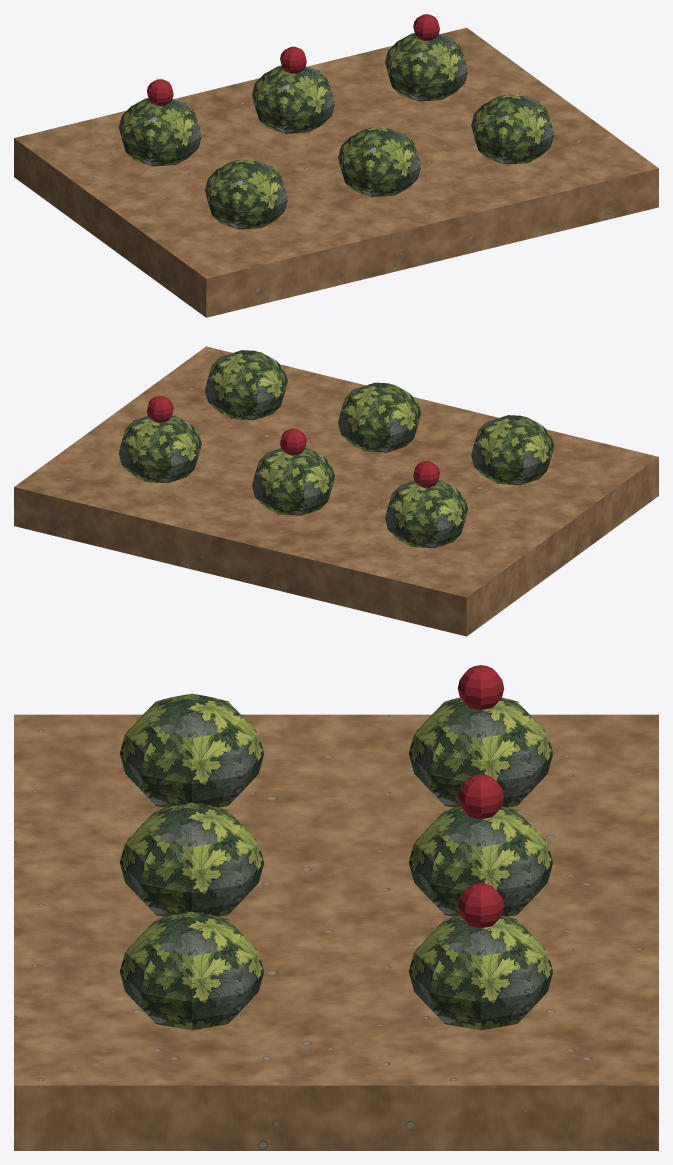
File: prop_yard_herbs.glb
3 renders of one model, top to bottom at view 1: azimuth 30°, elevation 25°; view 2: azimuth 150°, elevation 25°; view 3: azimuth 270°, elevation 25°, orthographic. The views are drawn at different scales.
Parts seen in each view (by area): view 1: bed, herb.002, herb.004, herb, herb.003, herb.001, herb.005, bloom.001, bloom.002, bloom; view 2: bed, herb.004, herb, herb.002, herb.005, herb.001, herb.003, bloom, bloom.001, bloom.002; view 3: bed, herb.004, herb, herb.002, herb.005, herb.001, herb.003, bloom, bloom.002, bloom.001.
Part boxes in pixels (left/top/right/bottom): bed: left=14, top=27, right=658, bottom=317; herb.002: left=338, top=127, right=420, bottom=196; herb.004: left=471, top=94, right=554, bottom=164; herb: left=205, top=159, right=287, bottom=229; herb.003: left=252, top=65, right=334, bottom=133; herb.001: left=118, top=98, right=201, bottom=166; herb.005: left=385, top=33, right=467, bottom=101; bloom.001: left=280, top=46, right=306, bottom=73; bloom.002: left=413, top=14, right=439, bottom=40; bloom: left=147, top=79, right=173, bottom=105; bed: left=14, top=346, right=658, bottom=636; herb.004: left=205, top=350, right=287, bottom=420; herb: left=471, top=415, right=554, bottom=485; herb.002: left=338, top=382, right=420, bottom=452; herb.005: left=118, top=414, right=201, bottom=483; herb.001: left=385, top=479, right=467, bottom=548; herb.003: left=252, top=447, right=334, bottom=515; bloom: left=413, top=461, right=439, bottom=487; bloom.001: left=280, top=428, right=306, bottom=454; bloom.002: left=147, top=396, right=173, bottom=422; bed: left=14, top=714, right=658, bottom=1150; herb.004: left=120, top=911, right=264, bottom=1030; herb: left=120, top=693, right=264, bottom=807; herb.002: left=120, top=802, right=264, bottom=916; herb.005: left=408, top=915, right=552, bottom=1030; herb.001: left=408, top=697, right=552, bottom=807; herb.003: left=408, top=806, right=552, bottom=916; bloom: left=457, top=665, right=503, bottom=709; bloom.002: left=457, top=883, right=503, bottom=928; bloom.001: left=457, top=774, right=503, bottom=818.
Size of the model in its own units: 1.7 by 0.405 by 1.25.
Materials: 3 (2 with a texture image).
